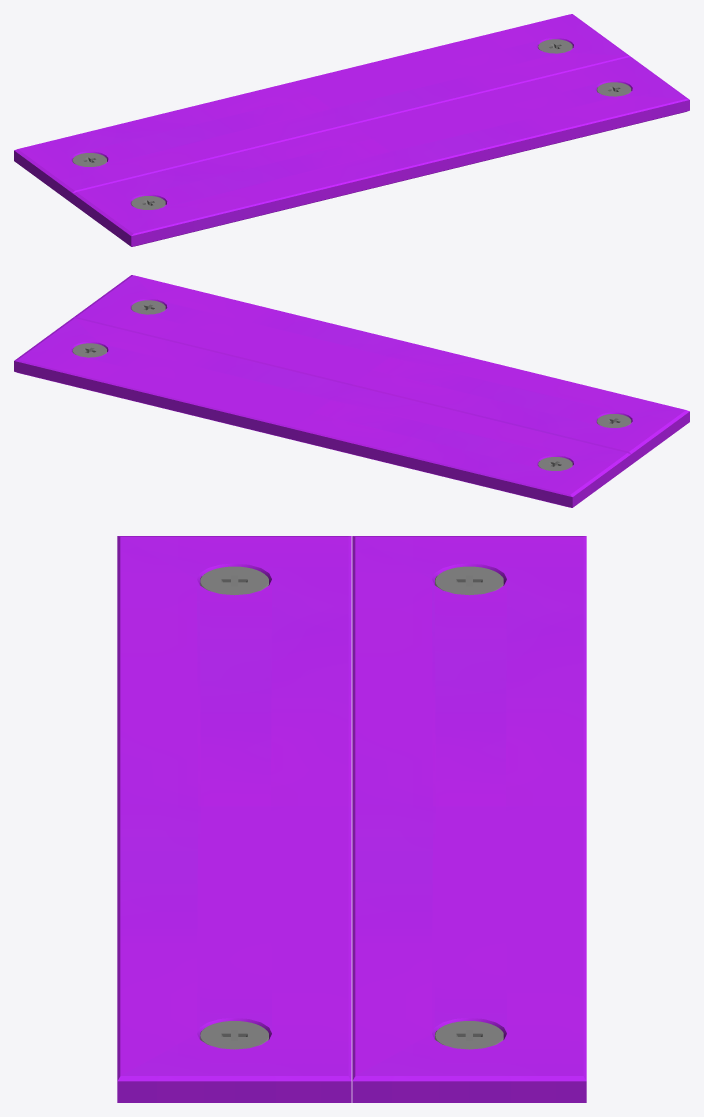
Rendered from DoubleBoltedPlankPink.fbx.
The picture shows the model from 3 angles, top to bottom: view 1: azimuth 30°, elevation 25°; view 2: azimuth 150°, elevation 25°; view 3: azimuth 270°, elevation 25°; orthographic projection. The views are drawn at different scales.
Visible parts, largest first — view 1: Cube, Cube.001; view 2: Cube, Cube.001; view 3: Cube, Cube.001.
Boxes of the visible parts, box(x1,y1,x2,y2) form: Cube: box(14, 14, 689, 246); Cube.001: box(72, 39, 631, 209); Cube: box(14, 275, 689, 507); Cube.001: box(72, 300, 631, 470); Cube: box(117, 536, 586, 1102); Cube.001: box(200, 566, 503, 1049).
Bounding box in the file's own units: 21.97 × 0.4885 × 7.99.
